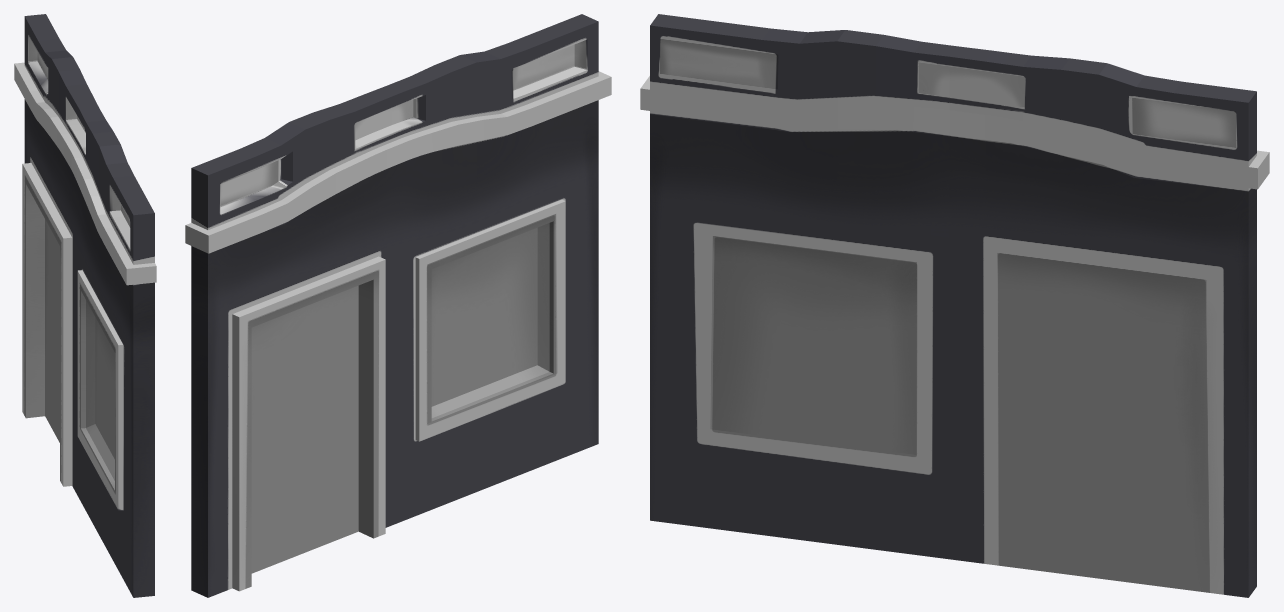
The model's file is casa1.fbx.
The picture shows the model from 3 angles, left to right: view 1: azimuth 30°, elevation 25°; view 2: azimuth 150°, elevation 25°; view 3: azimuth 270°, elevation 25°; orthographic projection. The views are drawn at different scales.
Visible parts, largest first — view 1: casa2; view 2: casa2; view 3: casa2.
Boxes of the visible parts, x1,y1,x2,y2 form: casa2: [14, 14, 156, 597]; casa2: [185, 14, 611, 597]; casa2: [640, 14, 1269, 597].
Bounding box in the file's own units: 71.83 × 176 × 199.
Materials: 1 (1 with a texture image).
